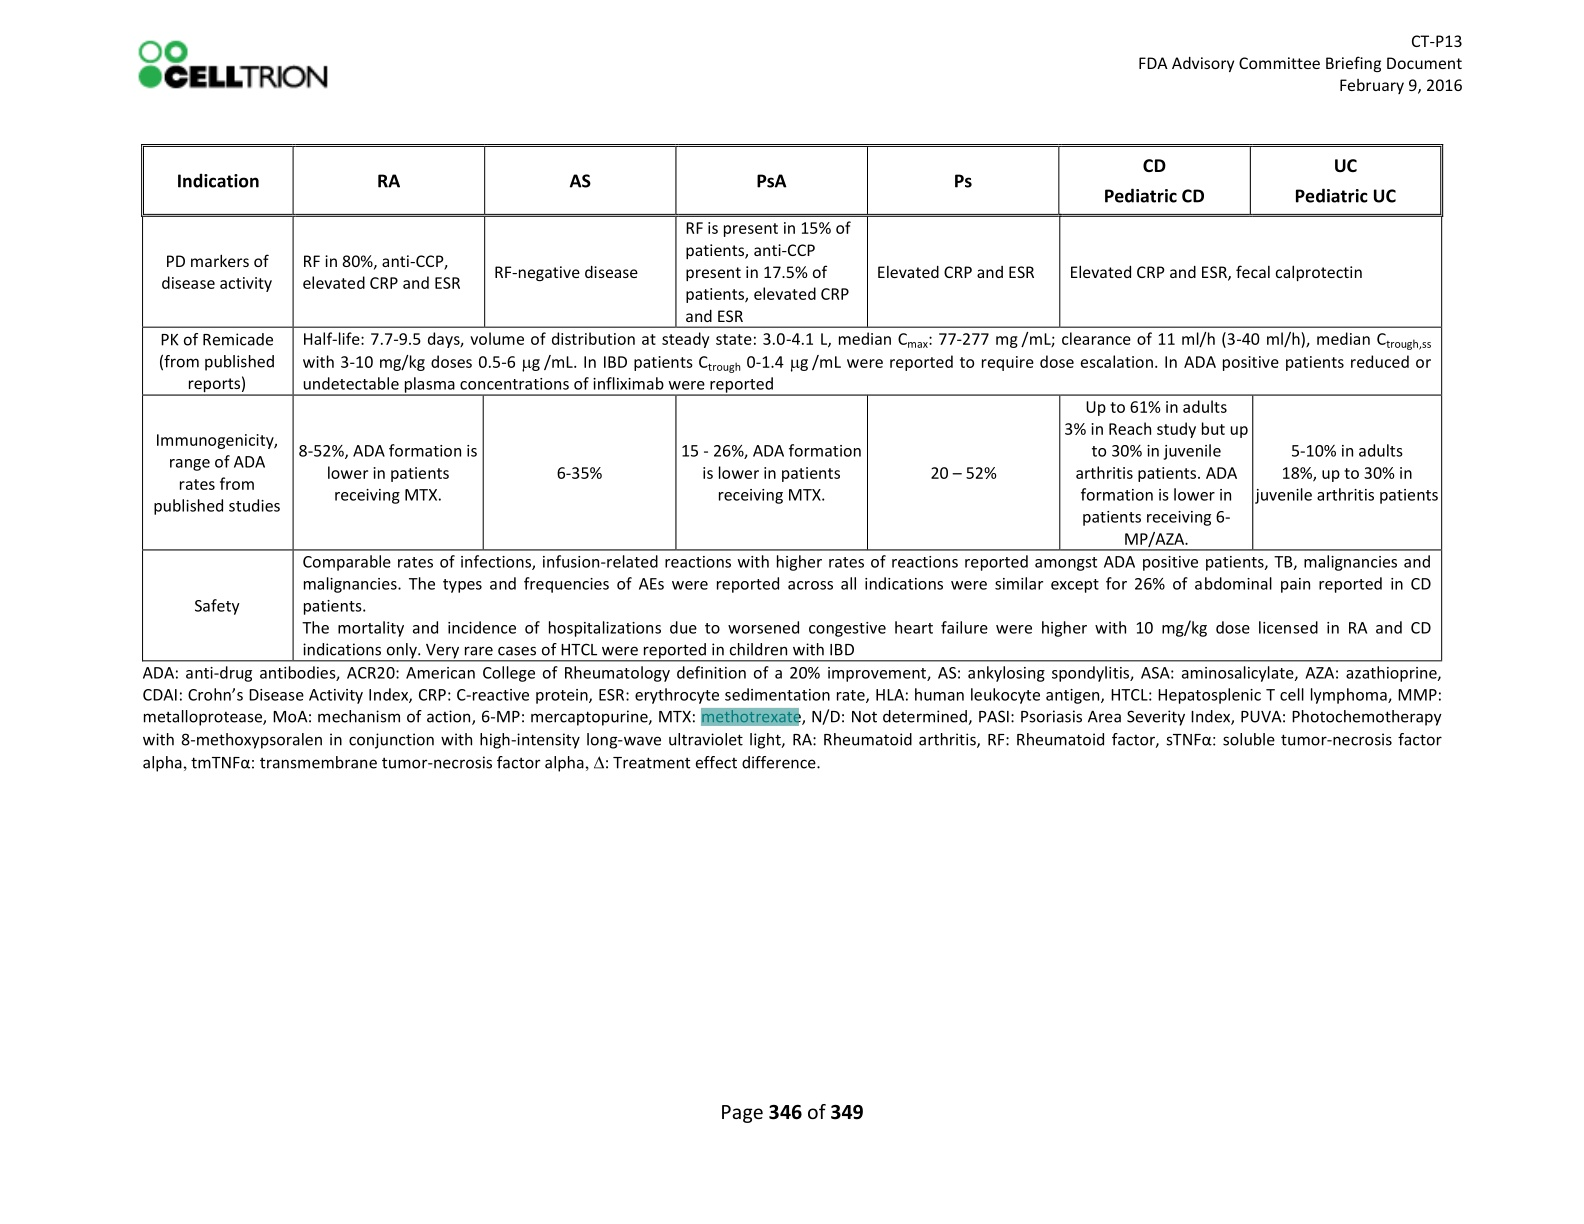merged_cells: (141, 144, 1444, 662)
